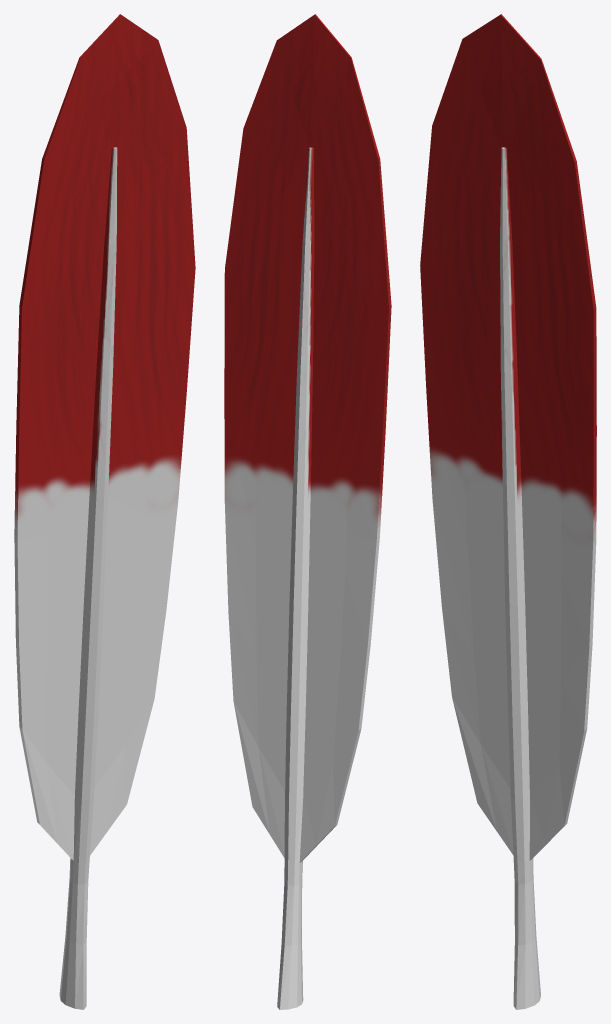
The model's file is feather.obj.
3 views of the same model, side by side, from view 1: azimuth 30°, elevation 25°; view 2: azimuth 150°, elevation 25°; view 3: azimuth 330°, elevation 25° (orthographic). The views are drawn at different scales.
Size of the model in its own units: 0.7939 by 4.44 by 0.3817.
1 material, 1 textured.
